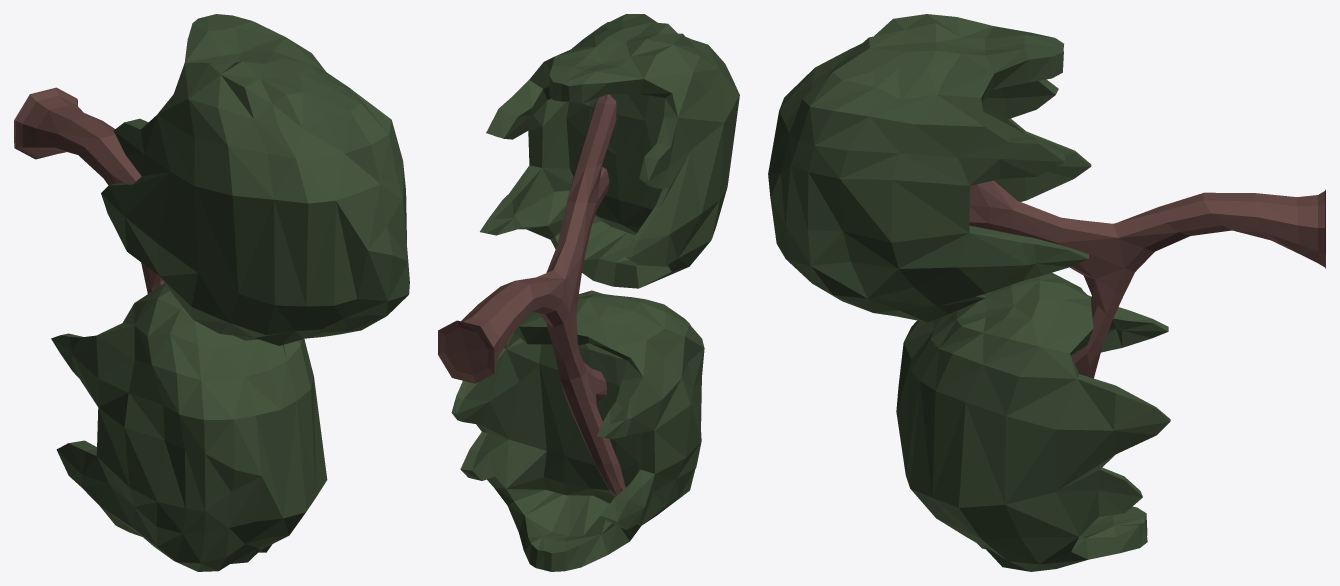
The model's file is tree-willow-5-34-ft.obj.
3 renders of one model, left to right at view 1: azimuth 30°, elevation 25°; view 2: azimuth 150°, elevation 25°; view 3: azimuth 270°, elevation 25°, orthographic. The views are drawn at different scales.
Visible parts, largest first — view 1: tree-willow-5-34-ft; view 2: tree-willow-5-34-ft; view 3: tree-willow-5-34-ft.
Boxes of the visible parts, bbox=[...] form: tree-willow-5-34-ft: bbox=[14, 14, 409, 571]; tree-willow-5-34-ft: bbox=[438, 14, 739, 571]; tree-willow-5-34-ft: bbox=[768, 14, 1325, 571].
Size of the model in its own units: 171 by 421 by 408.
